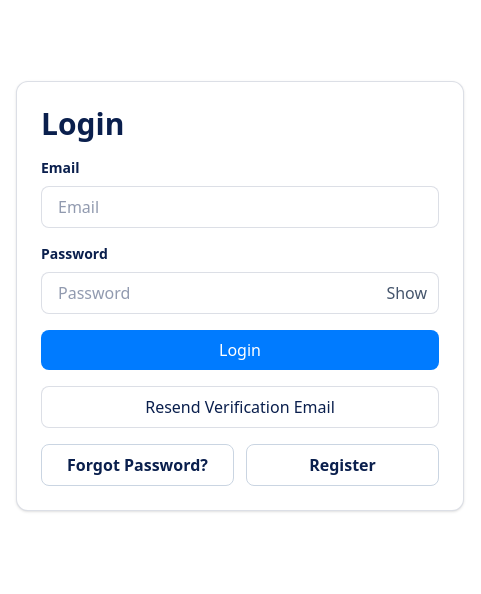
Test: LoginPage › shows an email-verification error supplied by the API
Type "sean@example.com" into the field labelled "Email" at (240, 207), box [41, 186, 439, 228]
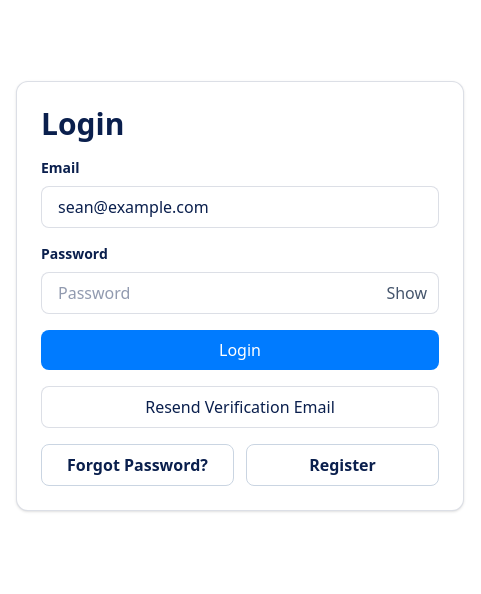
Type "Password123!" into the password field with placeholder "Password" at (240, 293), box [41, 272, 439, 314]
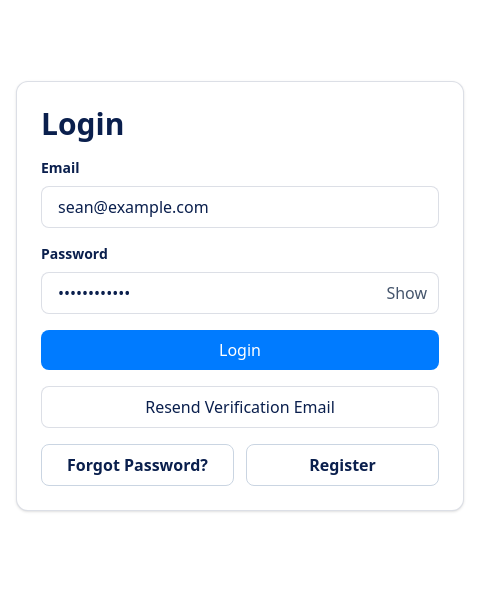
Click the button "Login" at (240, 350), box [41, 330, 439, 370]
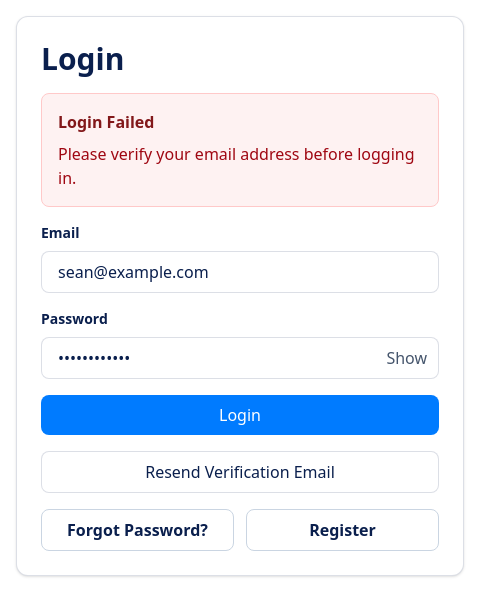
Now the text "Please verify your email address before logging in." is shown, box [58, 142, 422, 190]
